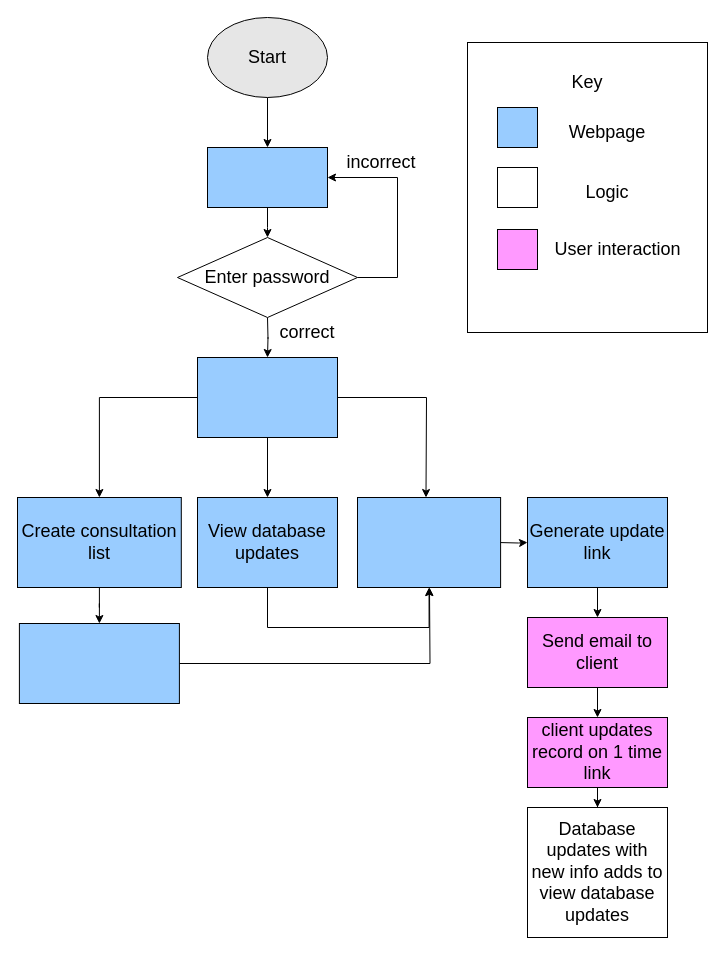
The diagram is 725 pixels wide and 955 high, and some of its shapes have lost their labels. The centre of each missing label's shape, as x and y in pixels:
"CRUD interface to update/manage database" belongs at point (428, 542).
"Home page" belongs at point (267, 397).
"Login page Displayed" belongs at point (267, 177).
"Output" belongs at point (98, 663).
